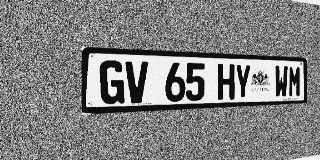5: (186, 63, 205, 101)
6: (165, 62, 185, 102)
G: (100, 60, 124, 105)
H: (218, 64, 234, 100)
M: (288, 66, 301, 97)
V: (125, 61, 148, 104)
W: (274, 65, 288, 98)
Y: (235, 64, 251, 99)
